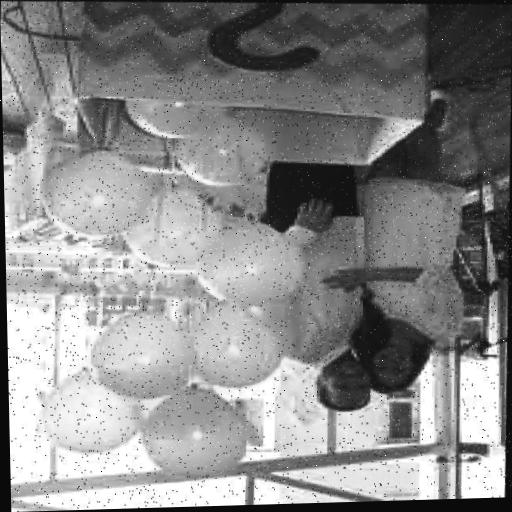balloon: (90, 296, 202, 404), (145, 381, 251, 478), (44, 148, 149, 240), (201, 212, 304, 304), (40, 366, 143, 456), (123, 181, 226, 270), (189, 301, 284, 391), (173, 115, 272, 188), (121, 76, 225, 140), (3, 131, 25, 166)
